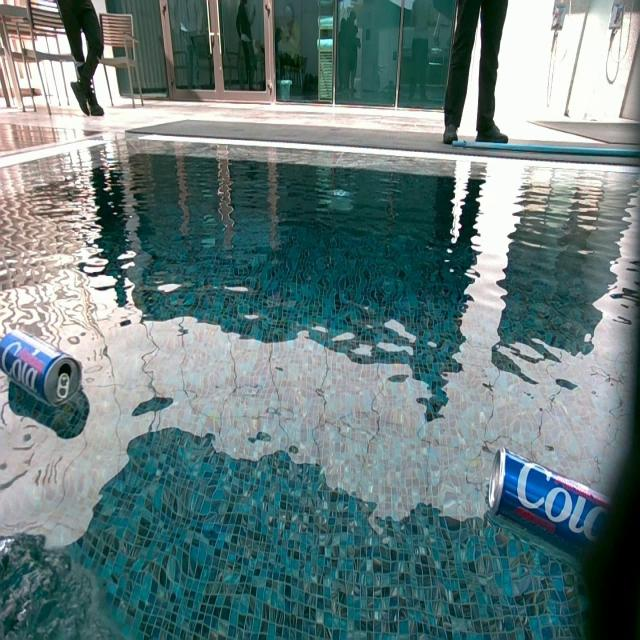Cans: (487, 448, 617, 558), (0, 328, 85, 409)
